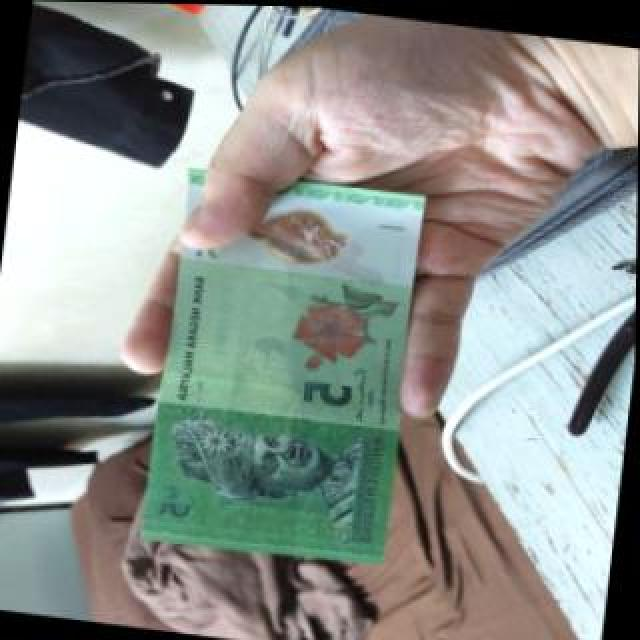5 Ringgit: (138, 156, 429, 573)
